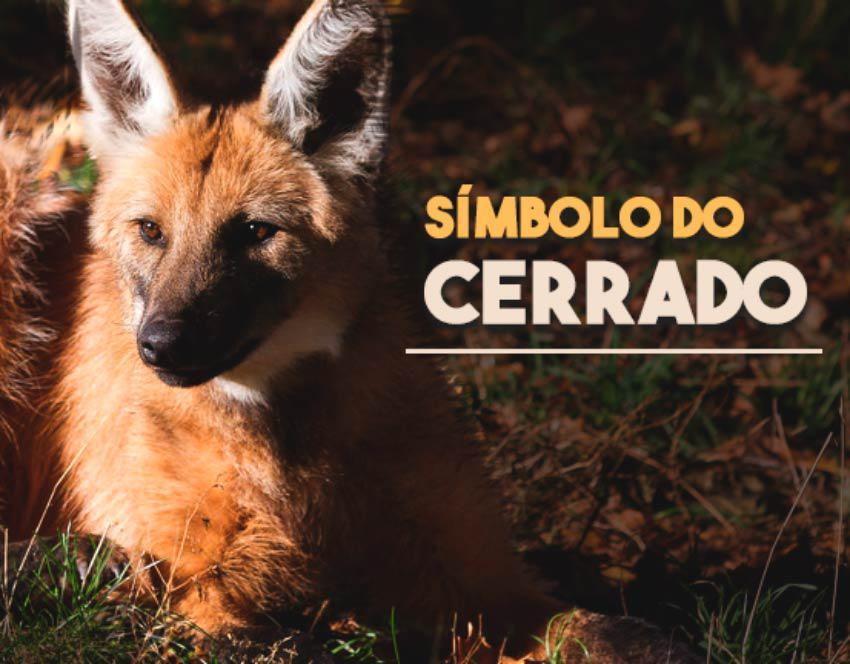LoboGuara: (17, 8, 402, 608)
